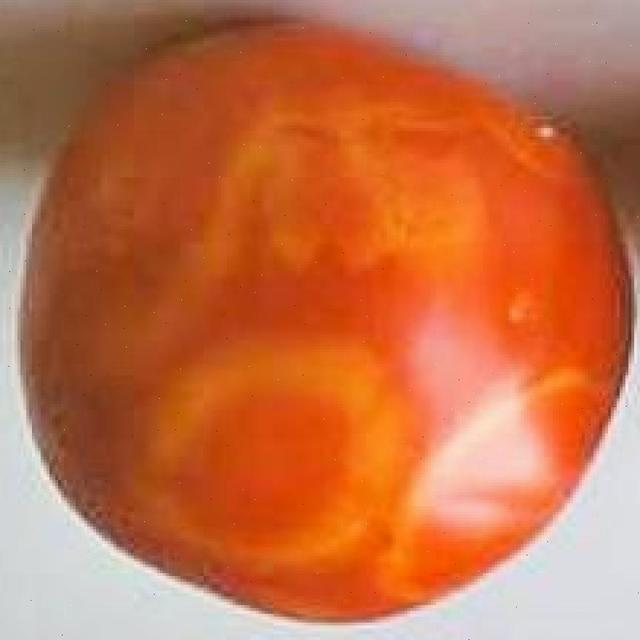Spotted wilt Virus Fruit: (12, 12, 421, 419)
